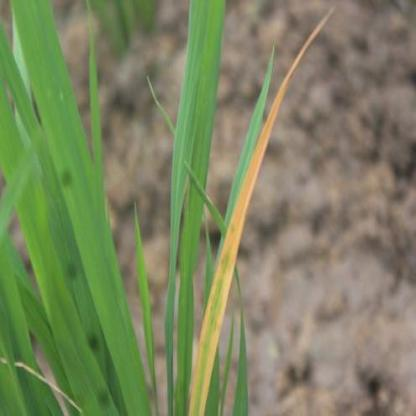Tungro: (190, 16, 328, 416)
